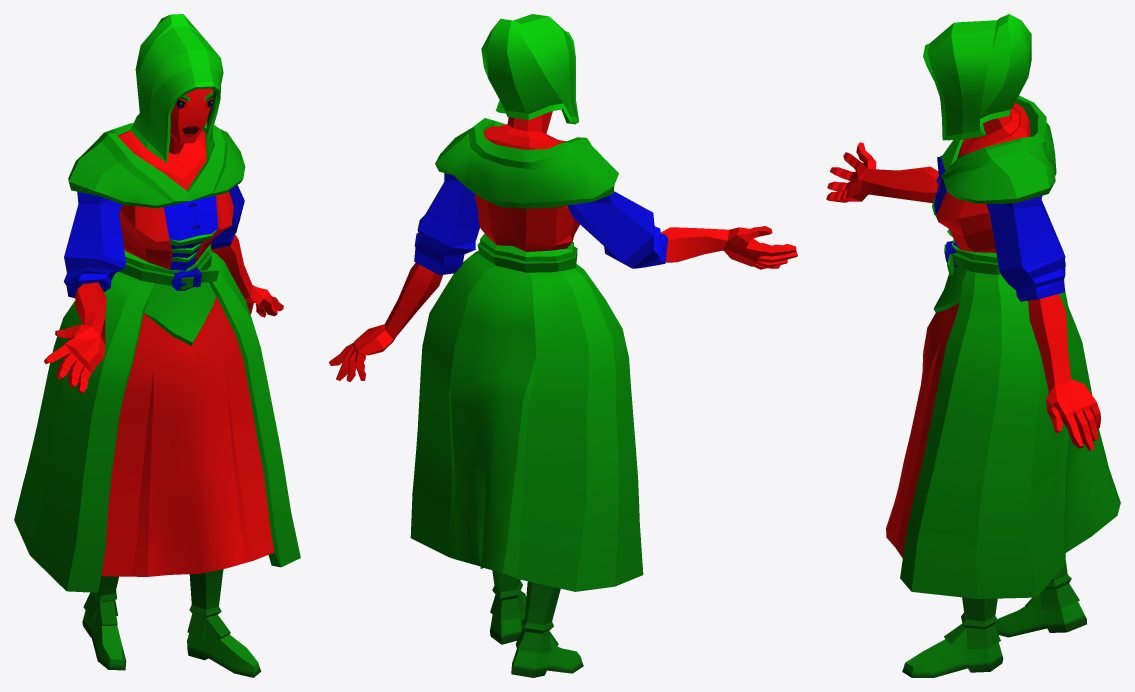
Rendered from F_Merchant_prePosed.fbx.
The picture shows the model from 3 angles, left to right: view 1: azimuth 30°, elevation 25°; view 2: azimuth 150°, elevation 25°; view 3: azimuth 270°, elevation 25°; orthographic projection.
Visible parts, largest first — view 1: F_Merchant_prePosed; view 2: F_Merchant_prePosed; view 3: F_Merchant_prePosed.
Boxes of the visible parts, left/top/right/bottom form: F_Merchant_prePosed: left=14, top=14, right=300, bottom=677; F_Merchant_prePosed: left=329, top=14, right=797, bottom=677; F_Merchant_prePosed: left=826, top=14, right=1120, bottom=677.
Bounding box in the file's own units: 121 × 207 × 85.52.
